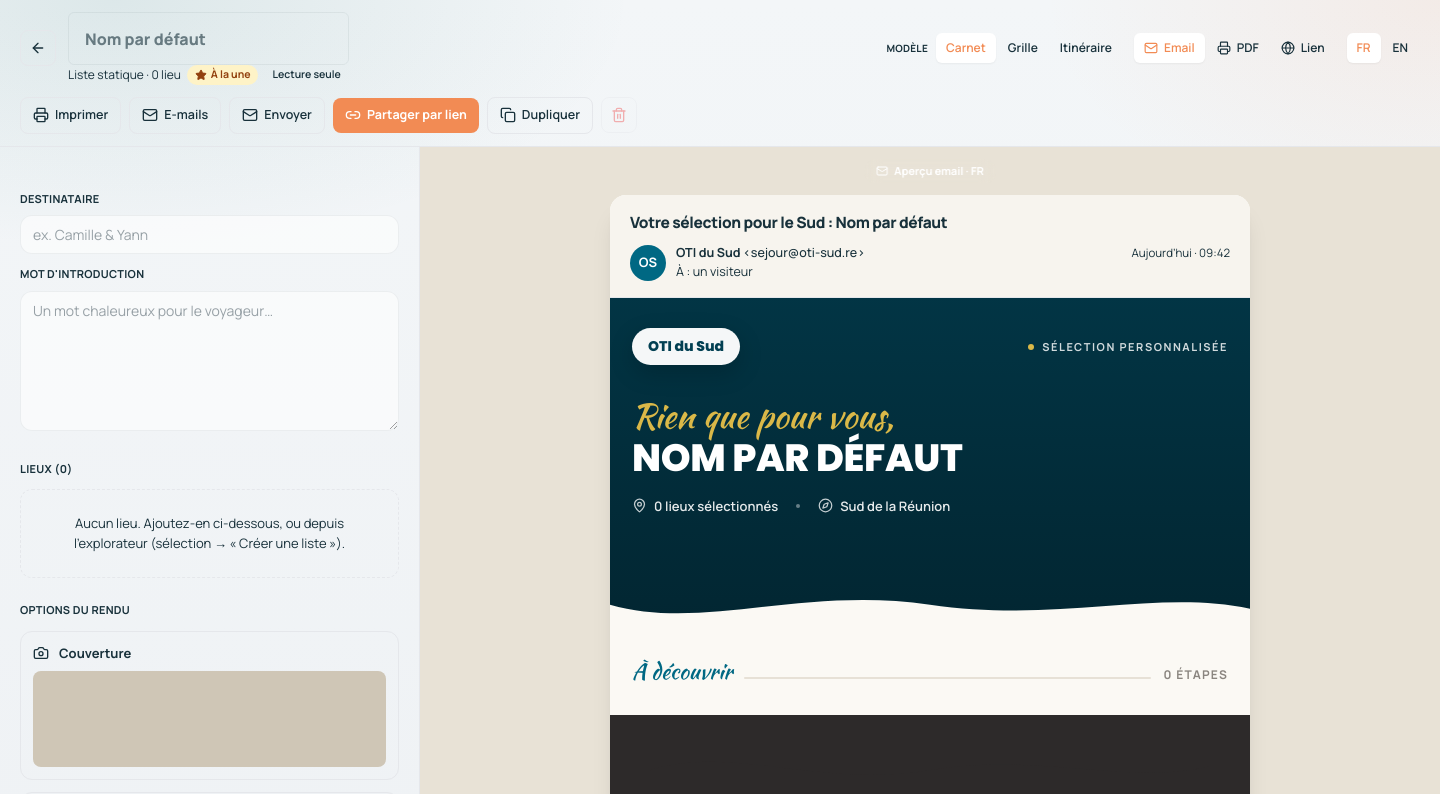
ListComposeView — lien de partage expiré/révoqué pour un lecteur (revue R2) › un lien EXPIRÉ pour un lecteur affiche le message clair, sans jamais appeler share_list ni proposer de copie
Click the button "Partager par lien" at (406, 115), box [333,98,479,133]
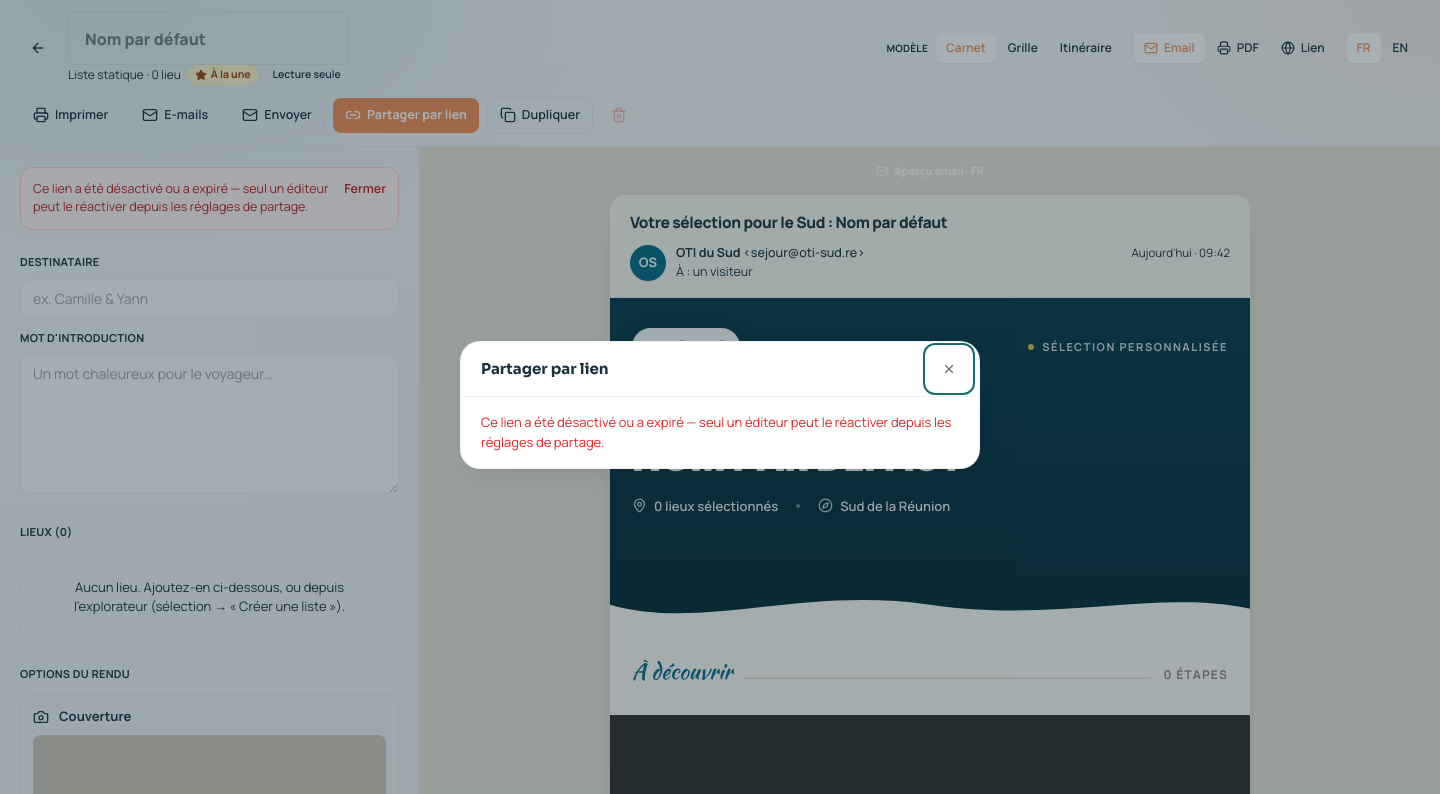
Expected: the text "seul un éditeur peut le réactiver" is shown, [481,413,951,450]
